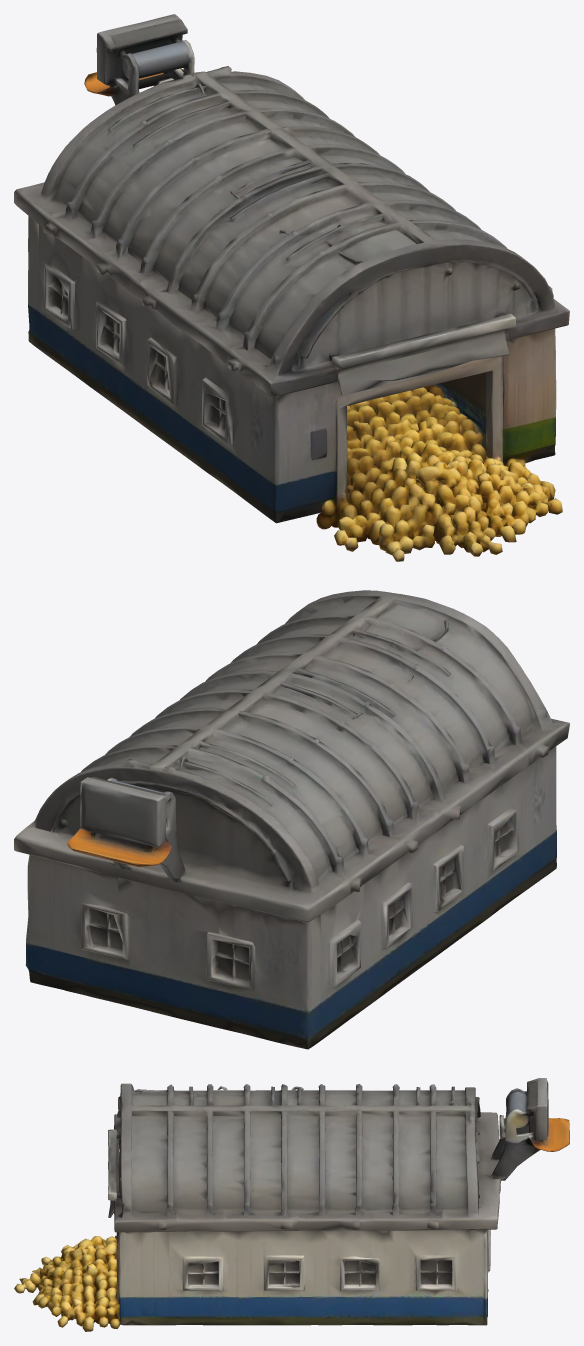
Rendered from armazem.glb.
3 views of the same model, one above another, from view 1: azimuth 30°, elevation 25°; view 2: azimuth 150°, elevation 25°; view 3: azimuth 270°, elevation 25° (orthographic). The views are drawn at different scales.
Parts seen in each view (by area): view 1: tripo_node_94763c05-d82e-4dd8-94a6-5f872eb0b1f5; view 2: tripo_node_94763c05-d82e-4dd8-94a6-5f872eb0b1f5; view 3: tripo_node_94763c05-d82e-4dd8-94a6-5f872eb0b1f5.
Boxes of the visible parts, x1,y1,x2,y2 form: tripo_node_94763c05-d82e-4dd8-94a6-5f872eb0b1f5: (14, 14, 569, 561); tripo_node_94763c05-d82e-4dd8-94a6-5f872eb0b1f5: (14, 590, 569, 1049); tripo_node_94763c05-d82e-4dd8-94a6-5f872eb0b1f5: (14, 1078, 569, 1331).
Size of the model in its own units: 0.4816 by 0.4037 by 1.
1 material, 1 textured.
